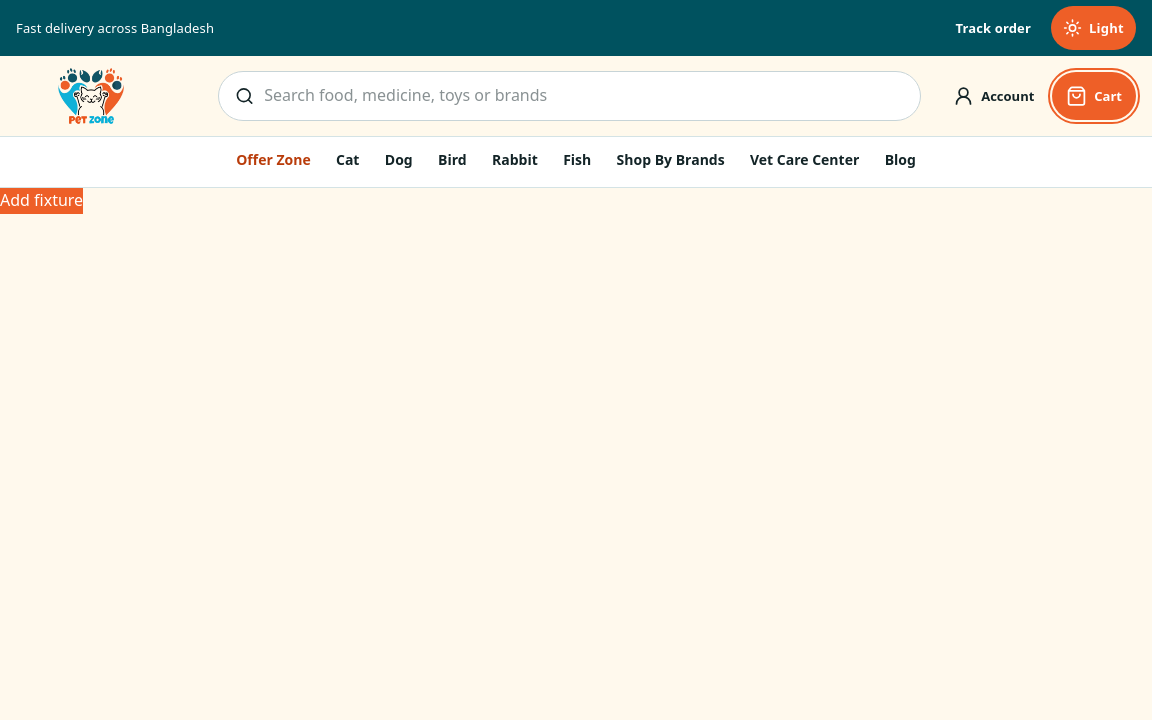
Scenario: CartDrawer › opens from the header as a modal and returns focus after Escape
The image size is (1152, 720).
Click the button with aria-label "cart with 0 items" at x=1094, y=96, box [1052,72,1136,120]
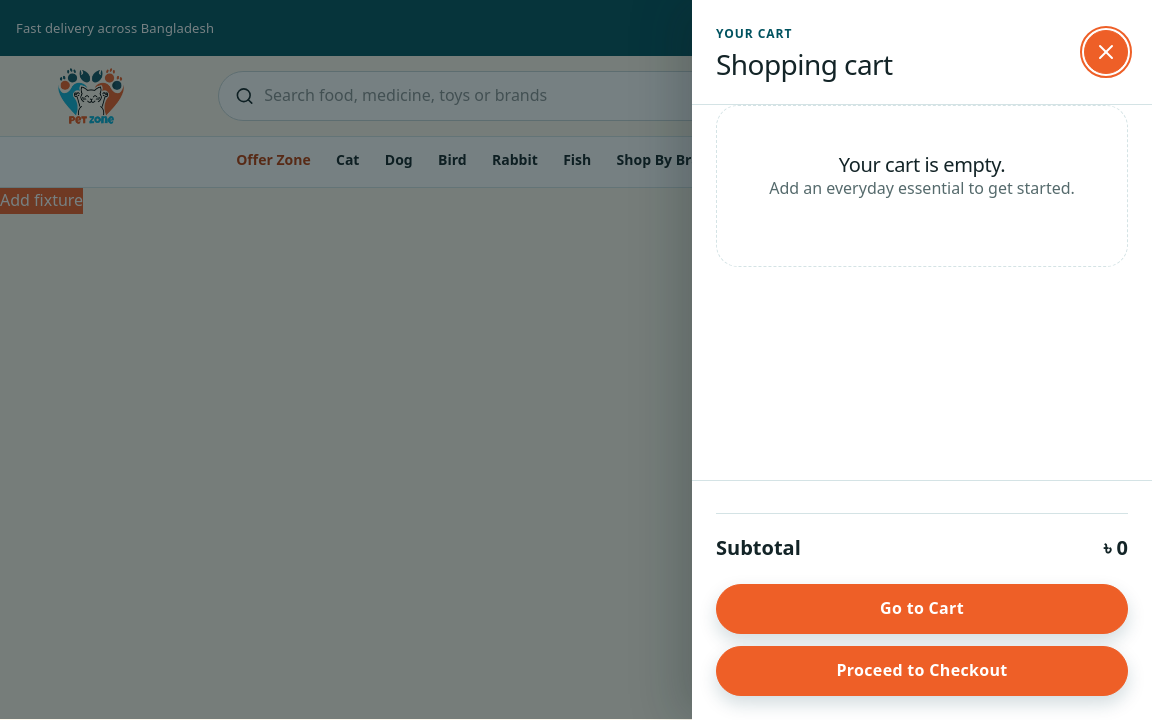
Result: the heading "Your cart is empty." is shown at [839,151,1005,178]
Press Escape
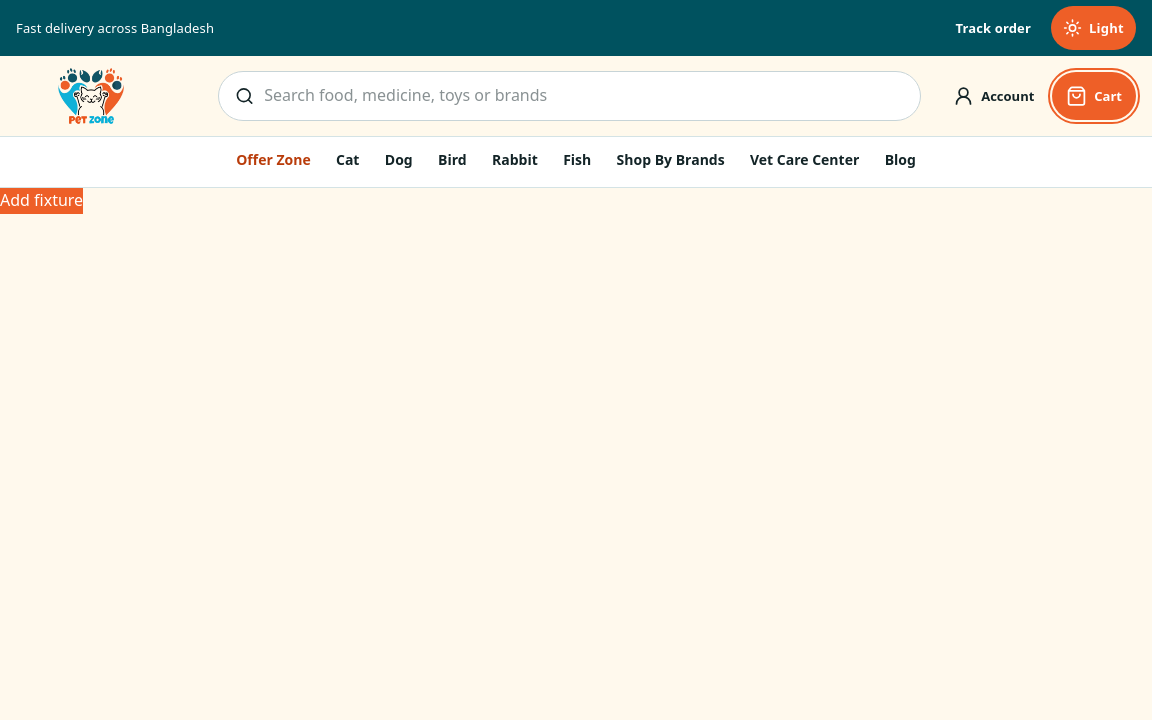
Result: the dialog is gone
